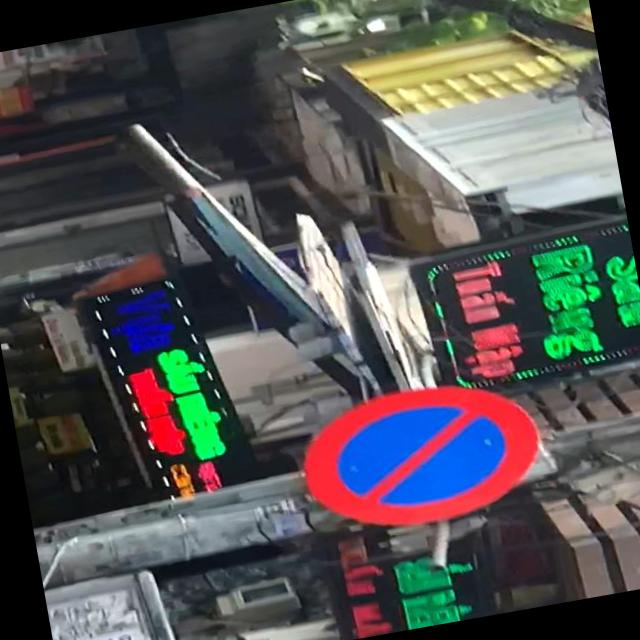P-131a: (292, 371, 548, 541)
